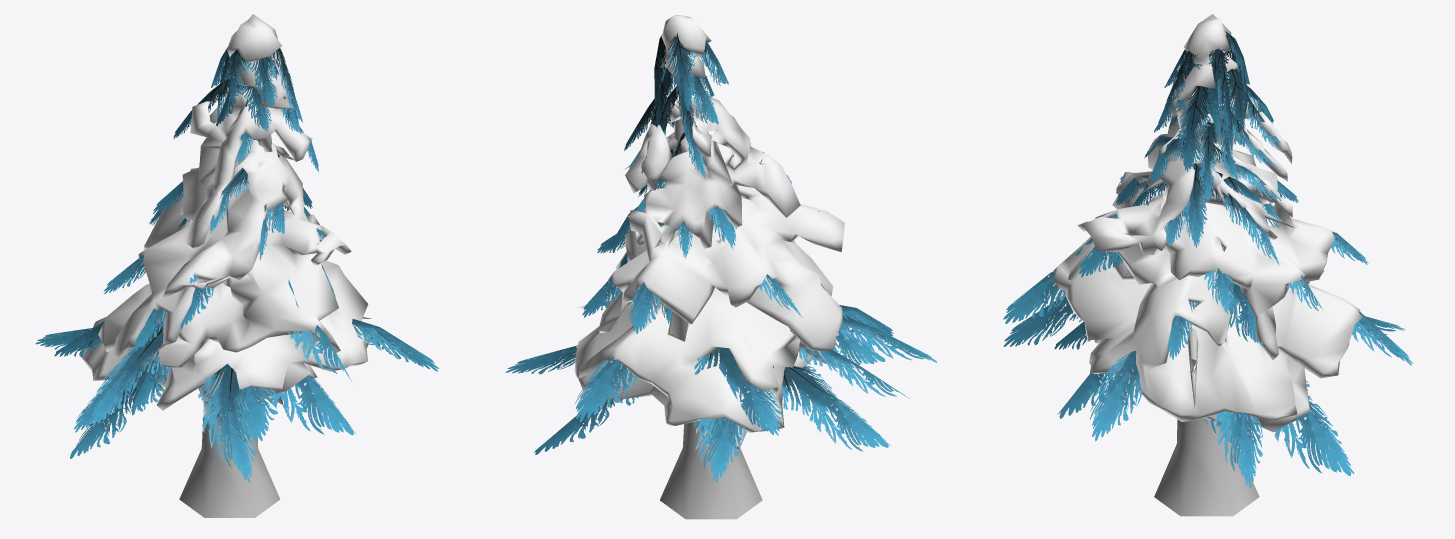
Rendered from Tree1.fbx.
The picture shows the model from 3 angles, left to right: view 1: azimuth 30°, elevation 25°; view 2: azimuth 150°, elevation 25°; view 3: azimuth 270°, elevation 25°; orthographic projection. The views are drawn at different scales.
Parts seen in each view (by area): view 1: Tree1_Top, Tree1_Bot; view 2: Tree1_Top, Tree1_Bot; view 3: Tree1_Top, Tree1_Bot.
Part boxes in pixels (left/top/right/bottom): Tree1_Top: left=35, top=14, right=438, bottom=482; Tree1_Bot: left=179, top=399, right=280, bottom=517; Tree1_Top: left=505, top=15, right=936, bottom=482; Tree1_Bot: left=660, top=421, right=762, bottom=519; Tree1_Top: left=1003, top=14, right=1412, bottom=488; Tree1_Bot: left=1154, top=418, right=1259, bottom=516.
Bounding box in the file's own units: 665 × 755 × 632.
